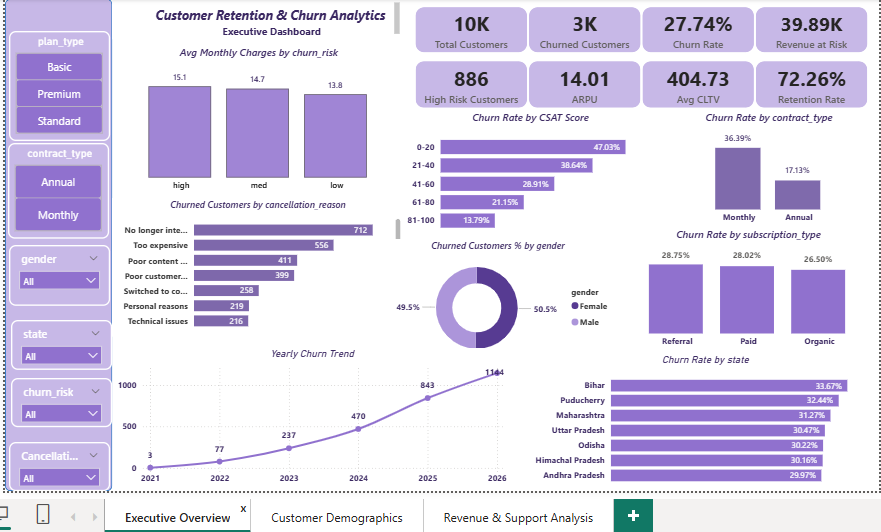

What the dashboard file says about the page in this screenshot:
{"tool":"powerbi","page":{"name":"Executive Overview","canvas":[1280,720],"ordinal":0},"visuals":[{"type":"cardVisual","fields":{"Data":["exported_churn_data_NEW.High Risk Customers","exported_churn_data_NEW.ARPU","exported_churn_data_NEW.Avg CLTV","exported_churn_data_NEW.Retention Rate"]},"box":[583.9,79,695.1,92.2],"z":0},{"type":"columnChart","fields":{"Category":["exported_churn_data_NEW.churn_risk"],"Y":["exported_churn_data_NEW.Avg Monthly Charges"]},"box":[159.5,67.3,424.4,223.9],"z":1000},{"type":"lineClusteredColumnComboChart","title":"Churn Rate by subscription_type","fields":{"Category":["exported_churn_data_NEW.subscription_type"],"Y":["exported_churn_data_NEW.Churn Rate"]},"box":[895.6,333.7,384.9,185.9],"z":2000},{"type":"cardVisual","fields":{"Data":["exported_churn_data_NEW.Total Customers","exported_churn_data_NEW.Churned Customers","exported_churn_data_NEW.Churn Rate","exported_churn_data_NEW.Revenue at Risk"]},"box":[583.9,0,696.6,90.7],"z":3000},{"type":"shape","box":[0,0,157,720],"z":4000},{"type":"shape","box":[153.7,0,553.2,49.8],"z":5000},{"type":"textbox","box":[156.6,0,425.9,58.5],"z":6000},{"type":"lineClusteredColumnComboChart","fields":{"Category":["exported_churn_data_NEW.contract_type"],"Y":["exported_churn_data_NEW.Churn Rate"]},"box":[955.6,162.4,324.9,175.6],"z":7000},{"type":"barChart","fields":{"Category":["exported_churn_data_NEW.cancellation_reason"],"Y":["exported_churn_data_NEW.Churned Customers"]},"box":[156.6,291.2,427.3,203.4],"z":8000},{"type":"barChart","title":"Churn Rate by CSAT Score","fields":{"Category":["exported_churn_data_NEW.CSAT Group"],"Y":["exported_churn_data_NEW.Churn Rate"]},"box":[582.4,162.4,373.2,188.8],"z":9000},{"type":"donutChart","title":"Churned Customers % by gender","fields":{"Category":["exported_churn_data_NEW.gender"],"Y":["exported_churn_data_NEW.Churned Customers"]},"box":[547.3,351.2,348.3,184.4],"z":10000},{"type":"advancedSlicerVisual","fields":{"Values":["exported_churn_data_NEW.plan_type"]},"box":[5.9,46.8,147.8,161],"z":11000},{"type":"advancedSlicerVisual","fields":{"Values":["exported_churn_data_NEW.contract_type"]},"box":[4.4,210.7,147.8,140.5],"z":12000},{"type":"slicer","fields":{"Values":["exported_churn_data_NEW.gender"]},"box":[5.9,360,147.8,89.3],"z":13000},{"type":"slicer","fields":{"Values":["exported_churn_data_NEW.state"]},"box":[8.8,469.8,147.8,73.2],"z":14000},{"type":"slicer","fields":{"Values":["exported_churn_data_NEW.churn_risk"]},"box":[8.8,554.6,147.8,71.7],"z":15000},{"type":"slicer","fields":{"Values":["exported_churn_data_NEW.Cancellation Year"]},"box":[5.9,648.3,147.8,71.7],"z":16000},{"type":"lineChart","title":"Yearly Churn Trend","fields":{"Category":["exported_churn_data_NEW.Cancellation Year"],"Y":["exported_churn_data_NEW.Churned Customers"]},"box":[159.5,510.7,579.5,209.3],"z":17000},{"type":"barChart","fields":{"Category":["exported_churn_data_NEW.state"],"Y":["exported_churn_data_NEW.Churn Rate"]},"box":[769.8,519.5,510.7,200.5],"z":18000}]}

Visuals, with their boxes on the page's 1280x720 design canvas (x1, y1, x2, y2). These are canvas units, not pixel positions in the 881x532 screenshot, which may show the page scaled, cropped or inside an application window:
cardVisual - exported_churn_data_NEW.High Risk Customers x exported_churn_data_NEW.ARPU: select_region(584, 79, 1279, 171)
columnChart - exported_churn_data_NEW.churn_risk x exported_churn_data_NEW.Avg Monthly Charges: select_region(160, 67, 584, 291)
"Churn Rate by subscription_type" lineClusteredColumnComboChart: select_region(896, 334, 1280, 520)
cardVisual - exported_churn_data_NEW.Total Customers x exported_churn_data_NEW.Churned Customers: select_region(584, 0, 1280, 91)
shape: select_region(0, 0, 157, 720)
shape: select_region(154, 0, 707, 50)
textbox: select_region(157, 0, 582, 58)
lineClusteredColumnComboChart - exported_churn_data_NEW.contract_type x exported_churn_data_NEW.Churn Rate: select_region(956, 162, 1280, 338)
barChart - exported_churn_data_NEW.cancellation_reason x exported_churn_data_NEW.Churned Customers: select_region(157, 291, 584, 495)
"Churn Rate by CSAT Score" barChart: select_region(582, 162, 956, 351)
"Churned Customers % by gender" donutChart: select_region(547, 351, 896, 536)
advancedSlicerVisual - exported_churn_data_NEW.plan_type: select_region(6, 47, 154, 208)
advancedSlicerVisual - exported_churn_data_NEW.contract_type: select_region(4, 211, 152, 351)
slicer - exported_churn_data_NEW.gender: select_region(6, 360, 154, 449)
slicer - exported_churn_data_NEW.state: select_region(9, 470, 157, 543)
slicer - exported_churn_data_NEW.churn_risk: select_region(9, 555, 157, 626)
slicer - exported_churn_data_NEW.Cancellation Year: select_region(6, 648, 154, 720)
"Yearly Churn Trend" lineChart: select_region(160, 511, 739, 720)
barChart - exported_churn_data_NEW.state x exported_churn_data_NEW.Churn Rate: select_region(770, 520, 1280, 720)
